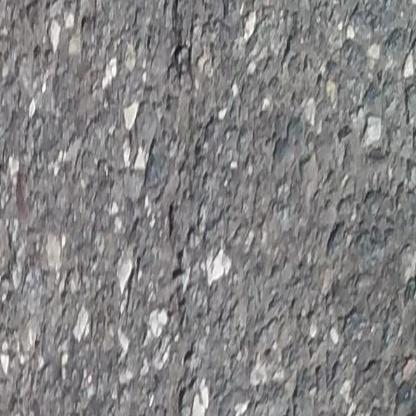Cracks: (166, 198, 196, 416)
